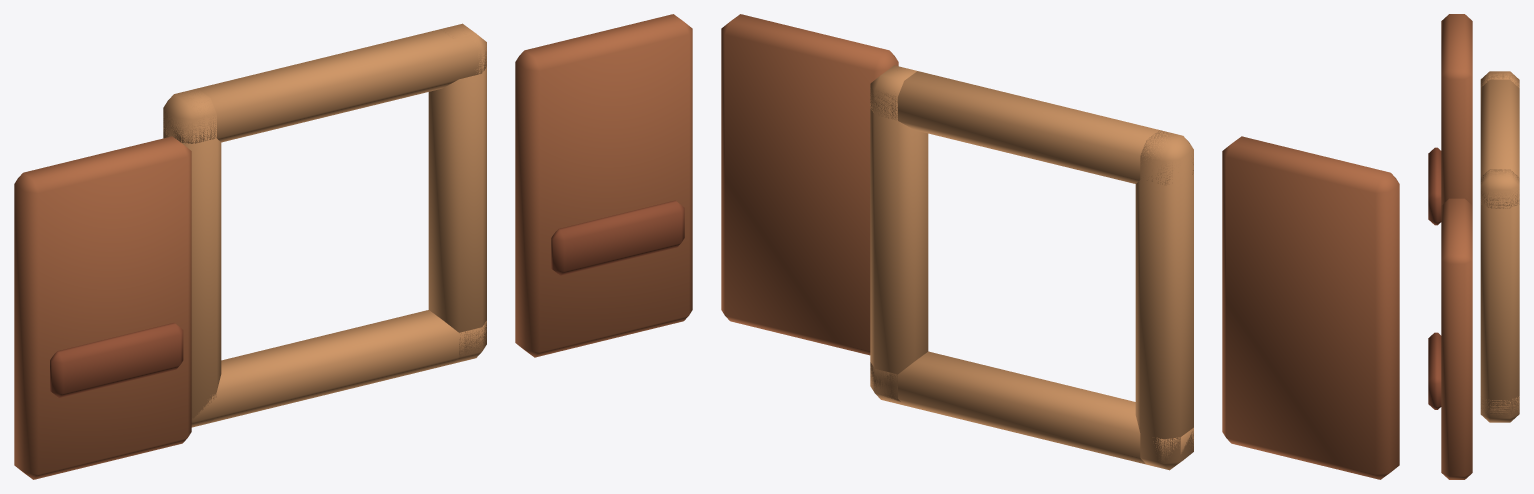
Rendered from Window_Shutter.glb.
3 views of the same model, side by side, from view 1: azimuth 30°, elevation 25°; view 2: azimuth 150°, elevation 25°; view 3: azimuth 270°, elevation 25° (orthographic). The views are drawn at different scales.
Parts seen in each view (by area): view 1: Window_Shutter; view 2: Window_Shutter; view 3: Window_Shutter.
Part boxes in pixels (bbox=[...]): Window_Shutter: bbox=[14, 14, 692, 479]; Window_Shutter: bbox=[721, 14, 1399, 479]; Window_Shutter: bbox=[1428, 14, 1519, 479].
Bounding box in the file's own units: 1.12 × 0.52 × 0.175.
